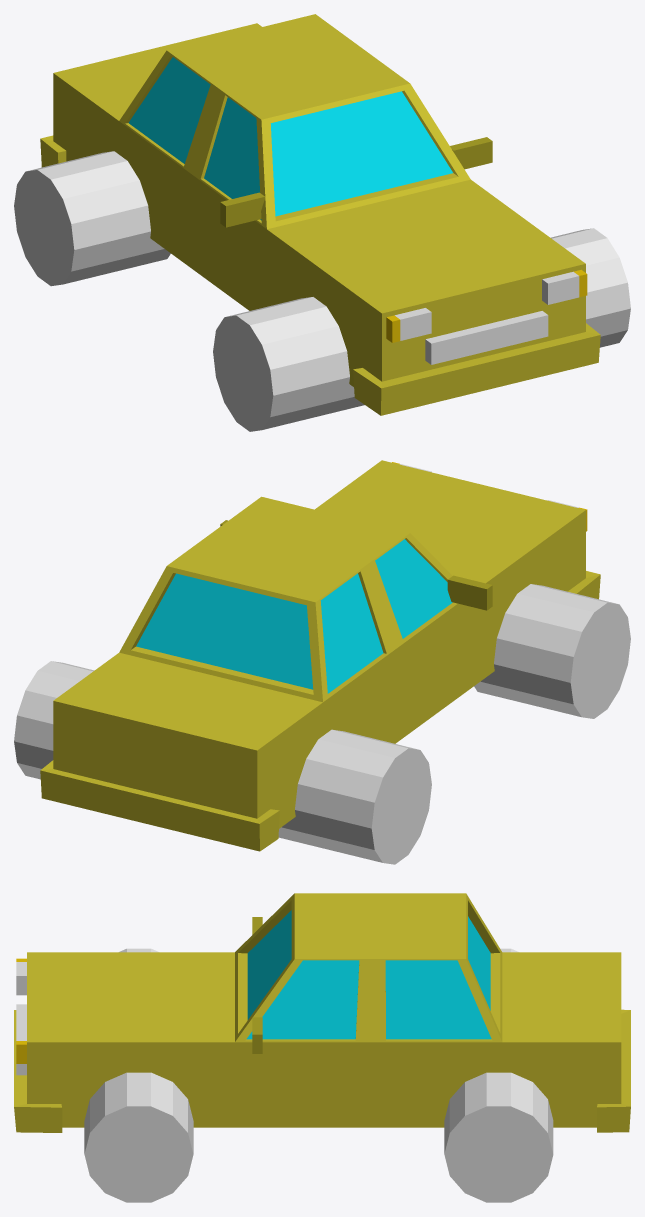
Rendered from car yellow.fbx.
3 views of the same model, one above another, from view 1: azimuth 30°, elevation 25°; view 2: azimuth 150°, elevation 25°; view 3: azimuth 270°, elevation 25° (orthographic). The views are drawn at different scales.
Parts seen in each view (by area): view 1: Cube, Cylinder.001, Cylinder.002, Cube.003, Cube.001, Cube.002; view 2: Cube, Cylinder.002, Cylinder.001, Cube.002; view 3: Cube, Cylinder.001, Cylinder.002, Cube.001, Cube.002.
Part boxes in pixels (bbox=[...]): Cube: bbox=[40, 14, 600, 415]; Cylinder.001: bbox=[213, 228, 630, 431]; Cylinder.002: bbox=[14, 151, 170, 286]; Cube.003: bbox=[425, 311, 548, 364]; Cube.001: bbox=[386, 269, 587, 342]; Cube.002: bbox=[220, 137, 492, 227]; Cube: bbox=[40, 460, 600, 851]; Cylinder.002: bbox=[14, 661, 431, 864]; Cylinder.001: bbox=[474, 584, 630, 718]; Cube.002: bbox=[220, 520, 492, 610]; Cube: bbox=[14, 893, 630, 1132]; Cylinder.001: bbox=[84, 948, 193, 1202]; Cylinder.002: bbox=[444, 948, 553, 1202]; Cube.001: bbox=[16, 958, 26, 1063]; Cube.002: bbox=[252, 917, 262, 1053].
Bounding box in the file's own units: 685 × 400 × 1131.
